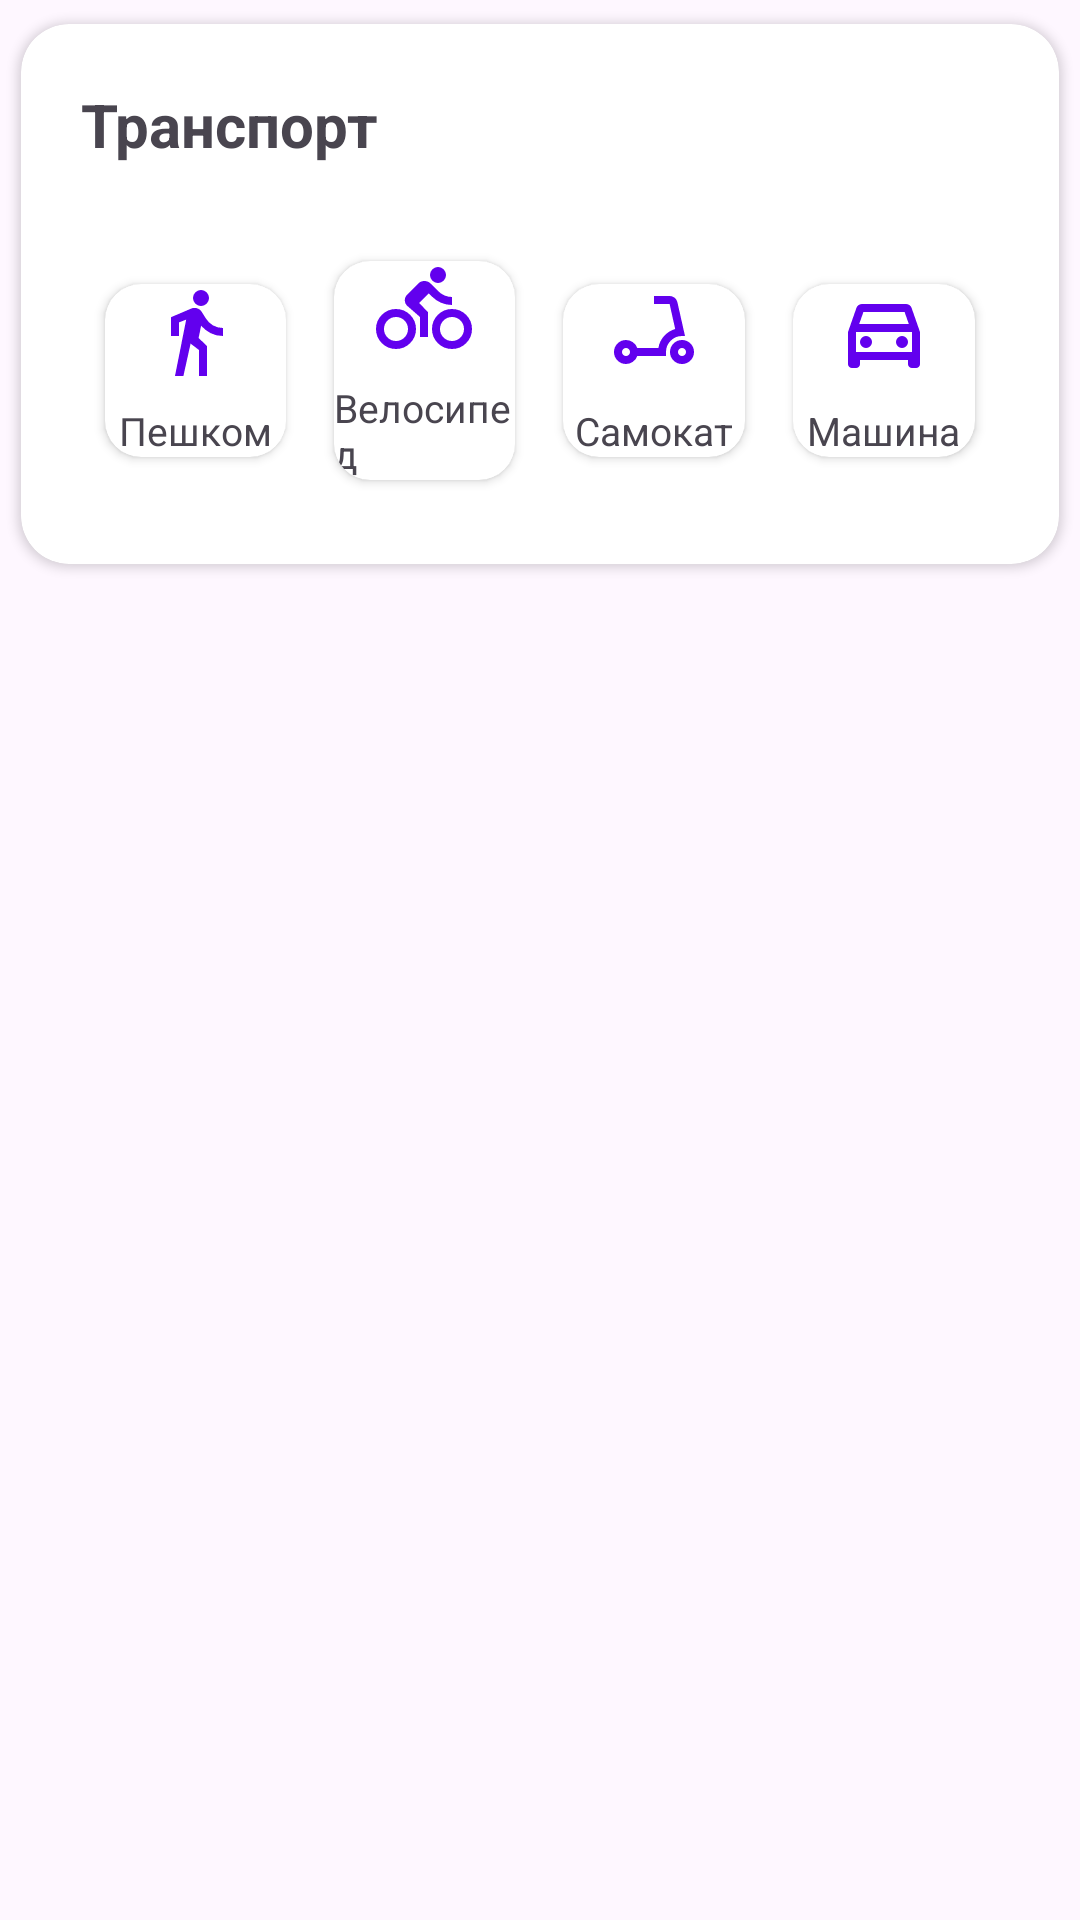

Icon click points for this 1080px×1920px phone screenshot, format (x,y):
car: (884,336)
scooter: (654,330)
